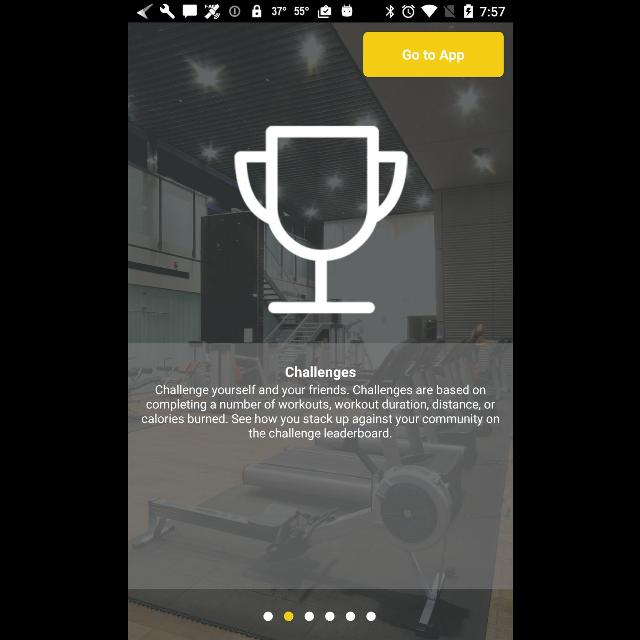backgroundimage: (128, 22, 512, 640)
image: (232, 126, 408, 314)
pageindicator: (262, 611, 376, 621)
text: (141, 384, 499, 440), (285, 366, 355, 380)
textbutton: (362, 32, 503, 78)
uppertaskbar: (128, 1, 512, 23)
